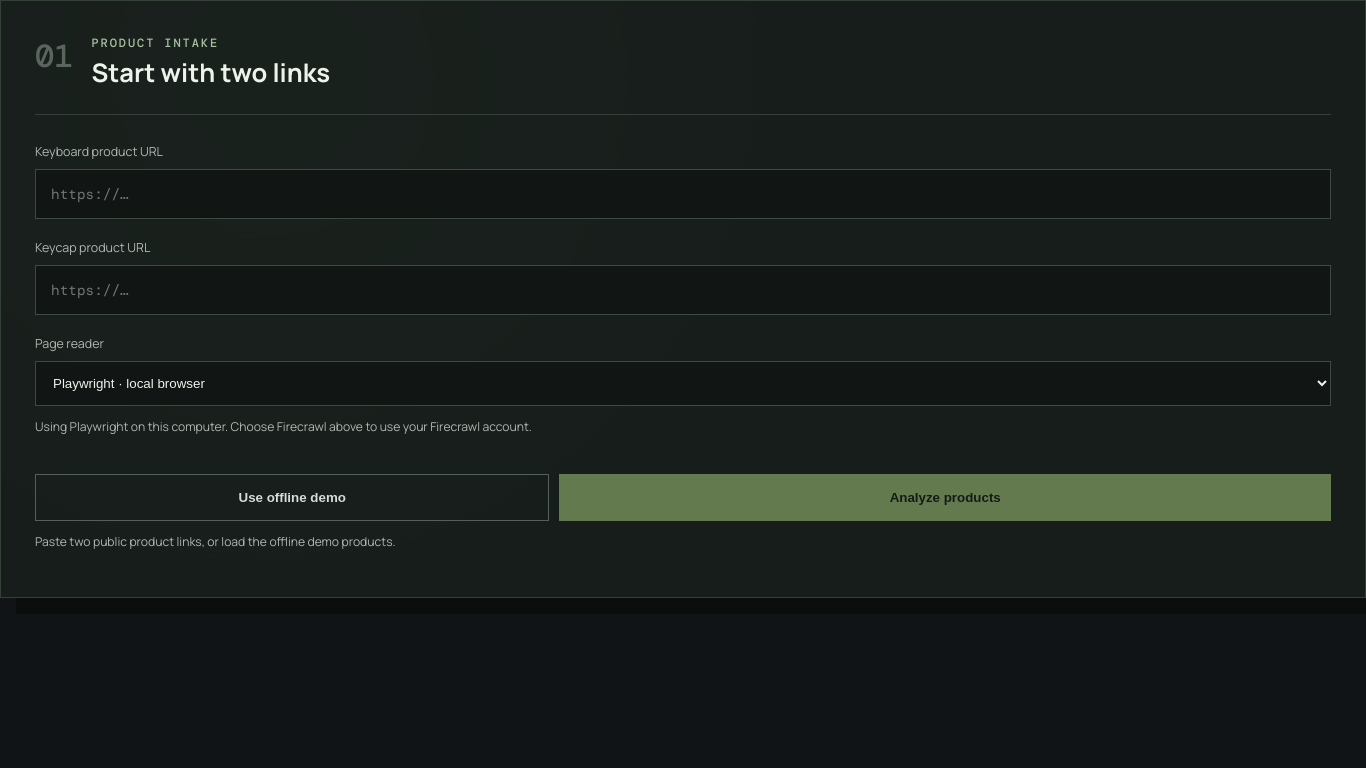
Scenario: loads offline fixture URLs and sends them through the local workflow
The width and height of the screenshot is (1366, 768).
Step 1. Click the button "Use offline demo" → (292, 497), box [35,474,549,520]
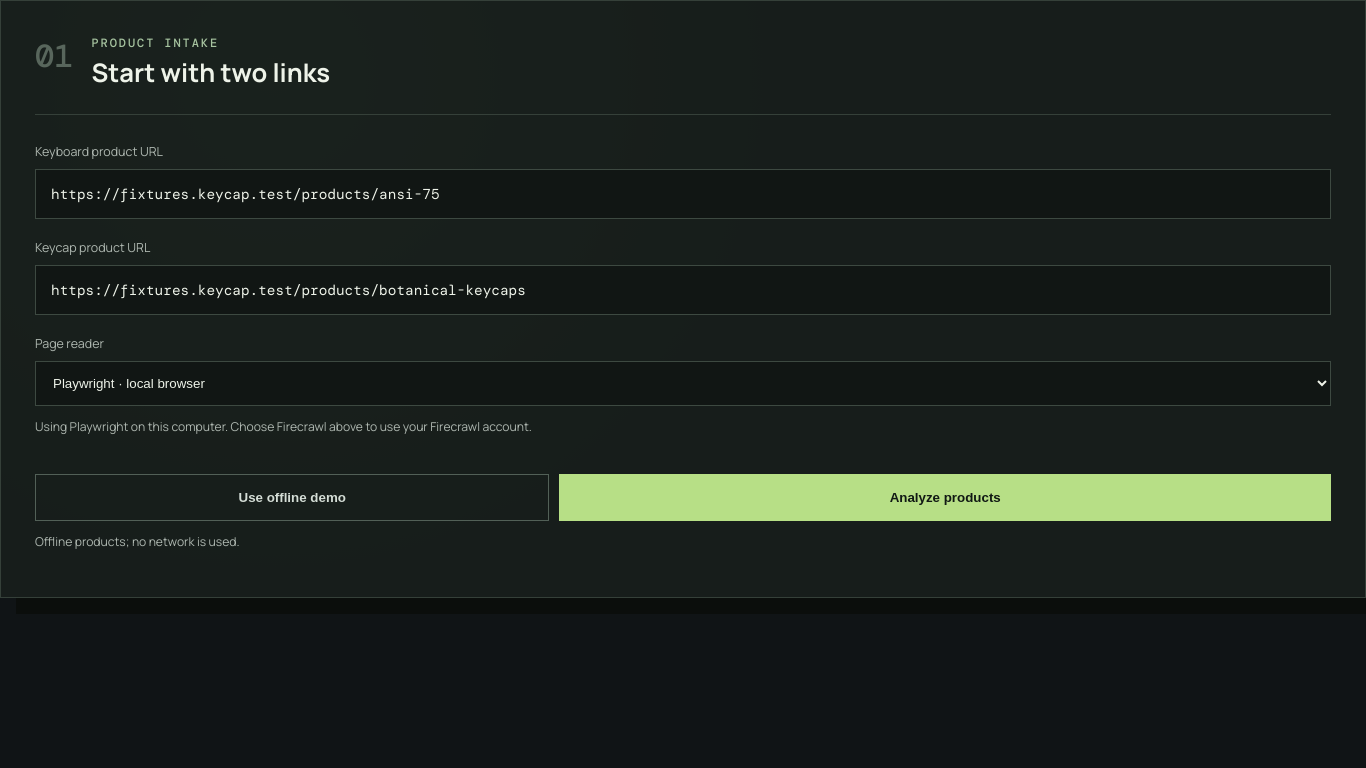
Result: the field showing "https://fixtures.keycap.test/products/ansi-75" is shown at [35,169,1331,219]
Step 2. Click the button "Analyze products" → (945, 497), box [559,474,1331,520]
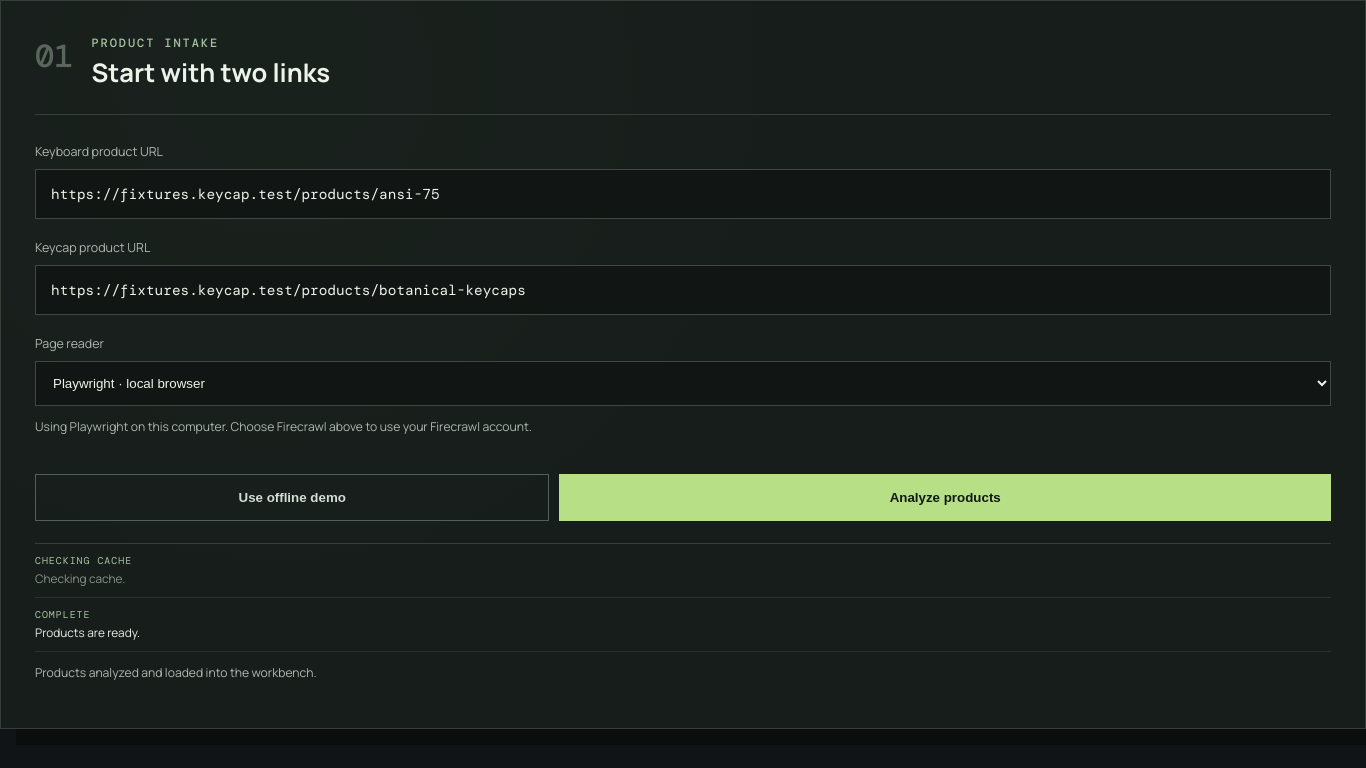
Result: the list item "Products are ready." is shown at [35,624,140,640]
